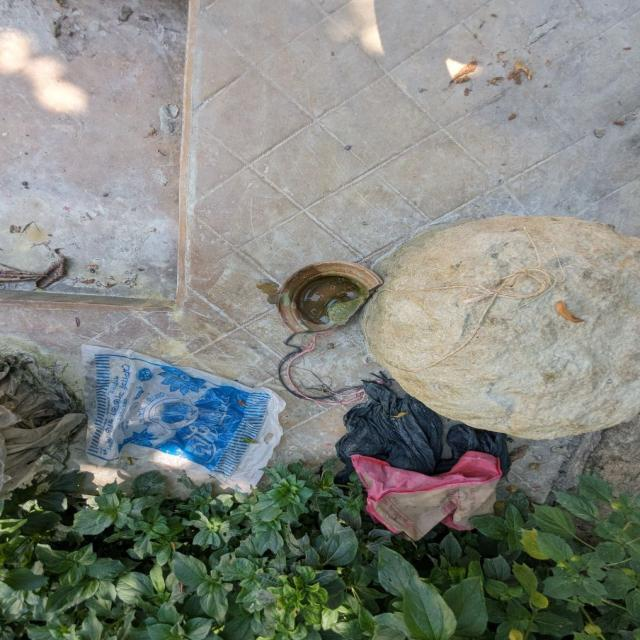Breeding Place: (301, 370, 518, 550), (66, 332, 280, 508), (242, 238, 386, 380)
